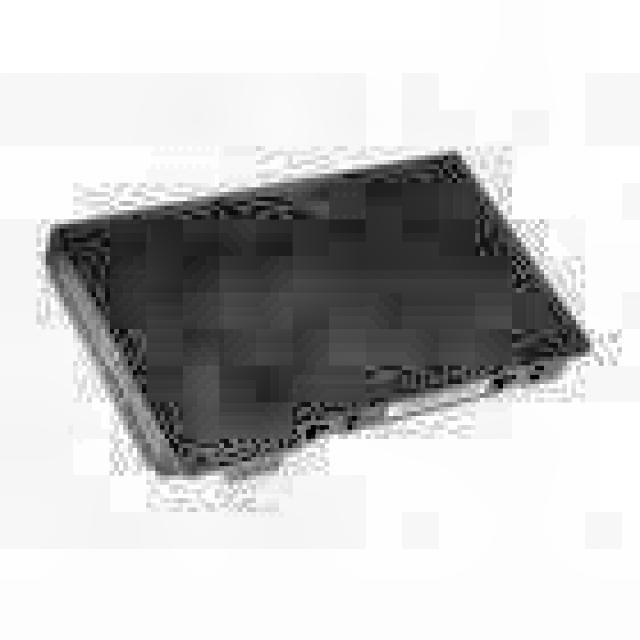Battery: (51, 146, 594, 480)
